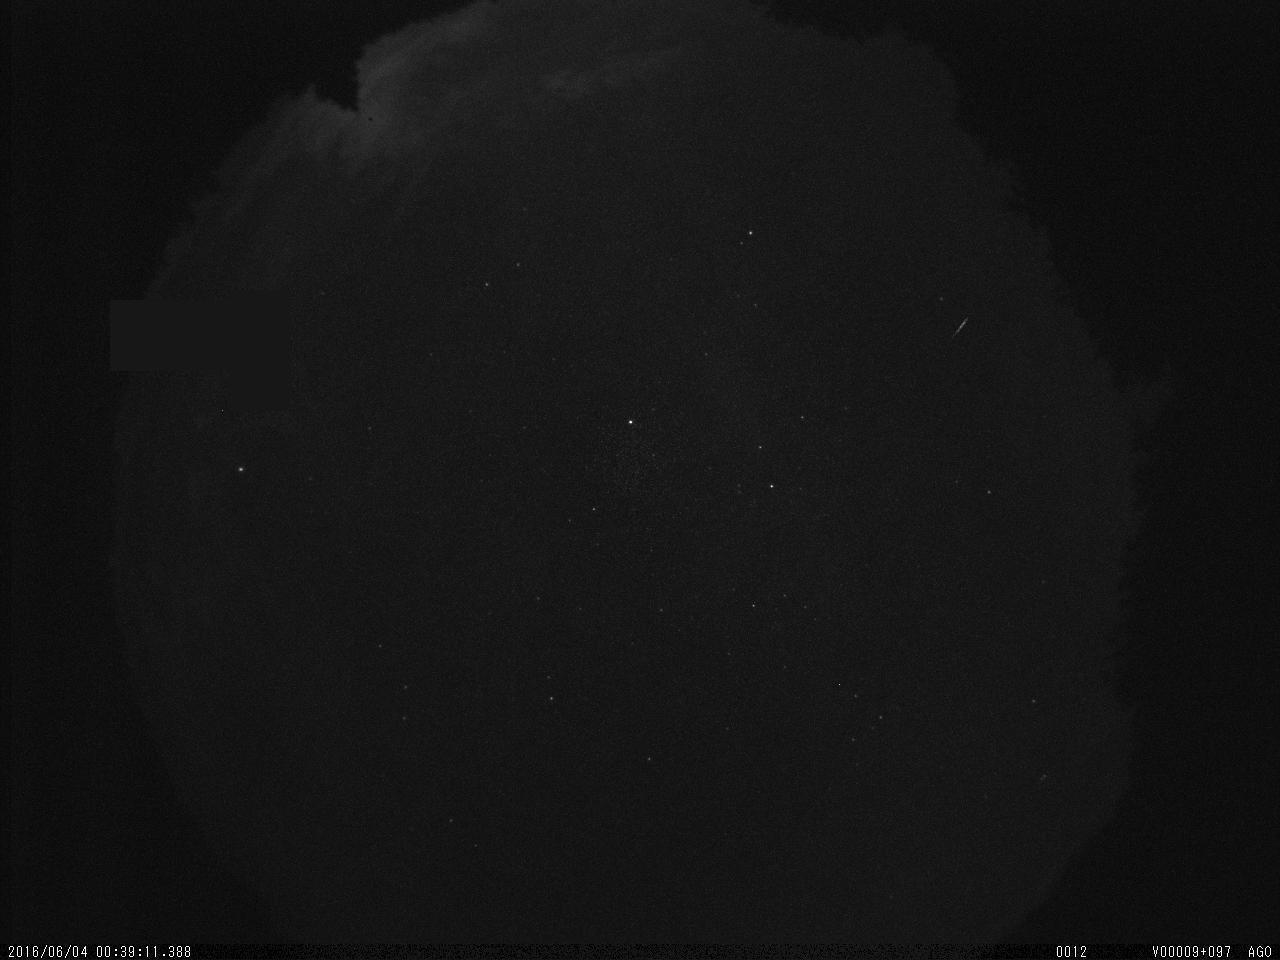Meteor: (948, 315, 971, 341)
